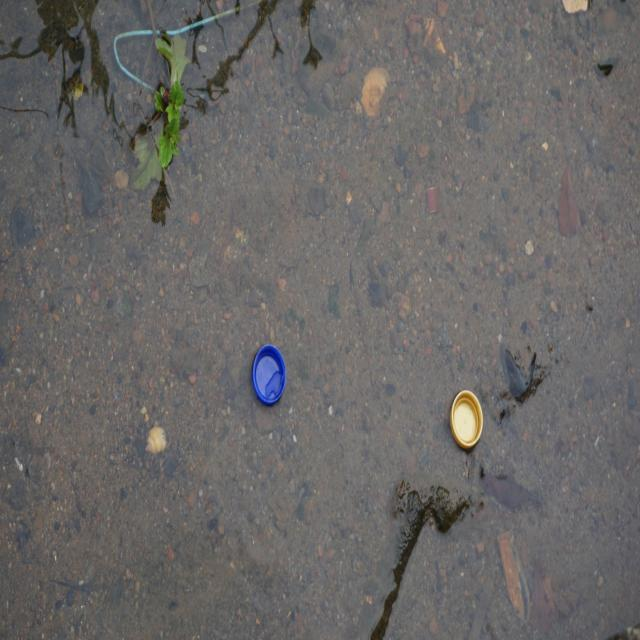Botol Plastik: (252, 343, 288, 411), (451, 386, 485, 453)
